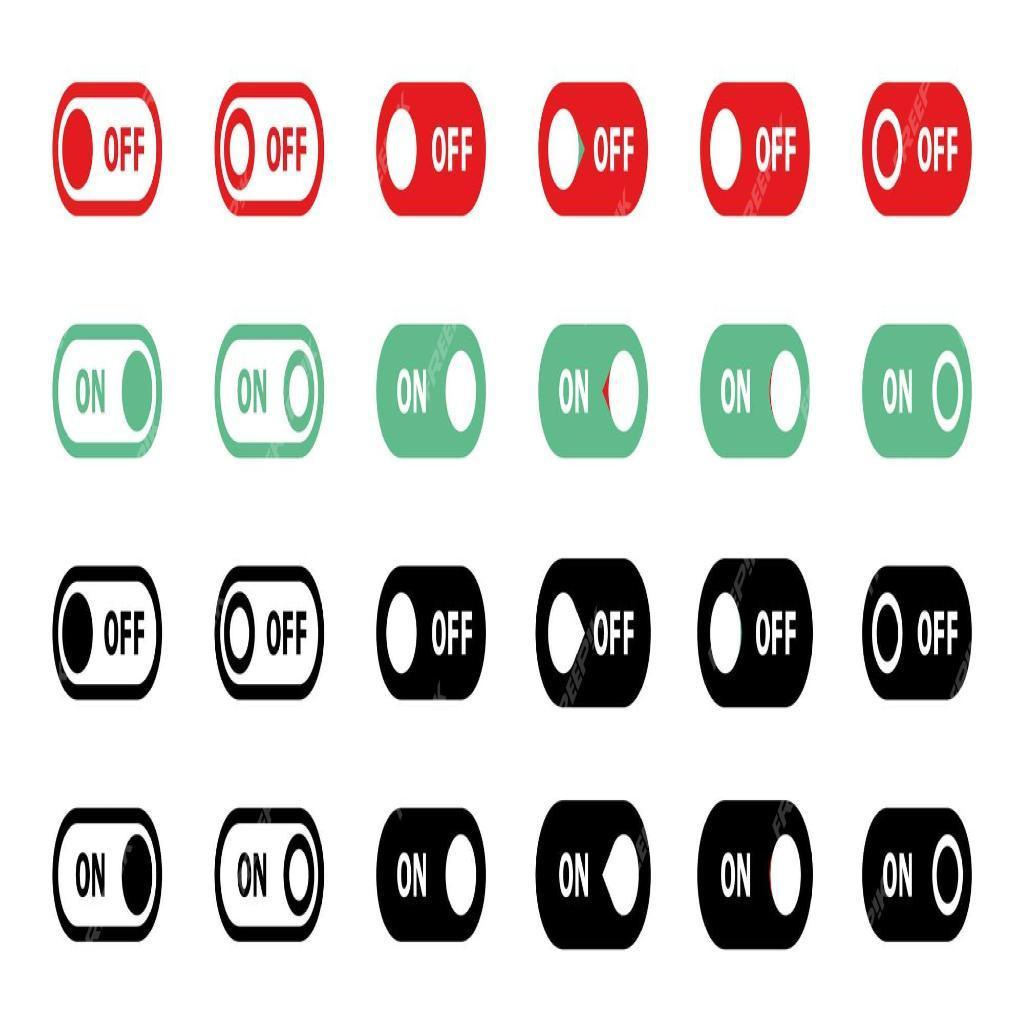switch: (532, 539, 656, 722), (528, 788, 657, 962), (212, 788, 331, 966), (48, 67, 171, 235), (699, 780, 816, 955), (695, 548, 816, 717), (691, 62, 815, 224), (372, 299, 490, 469), (48, 788, 174, 947), (854, 543, 976, 705), (855, 791, 976, 953), (858, 65, 975, 231), (373, 59, 486, 230), (697, 302, 814, 466), (208, 73, 328, 231), (859, 310, 977, 469), (48, 553, 164, 713), (212, 550, 328, 709), (371, 553, 489, 709), (538, 67, 653, 226), (372, 802, 490, 956), (209, 319, 328, 467), (51, 308, 164, 456), (532, 324, 650, 464)
